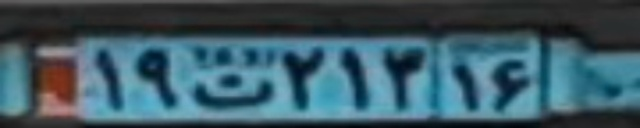1: (340, 48, 372, 111), (95, 51, 127, 112), (453, 63, 480, 110)
2: (282, 46, 324, 110)
3: (383, 47, 423, 110)
6: (491, 59, 531, 111)
9: (134, 48, 177, 110)
te: (188, 68, 272, 108)
